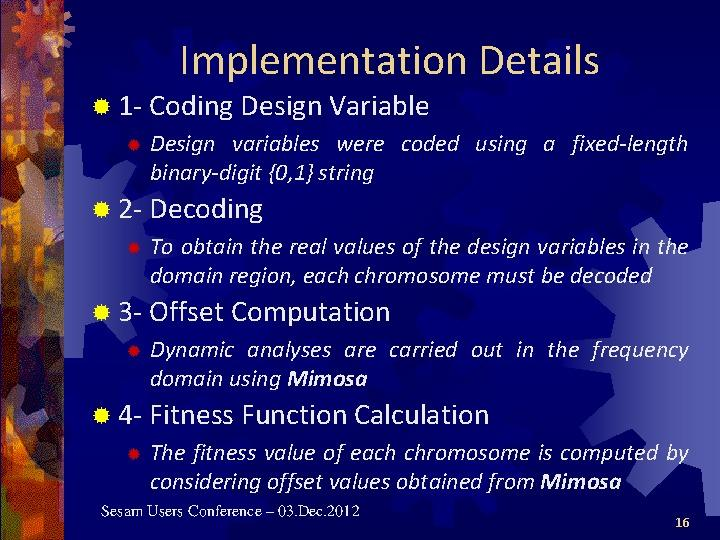paragraph: (86, 86, 707, 506)
title: (170, 30, 616, 89)
